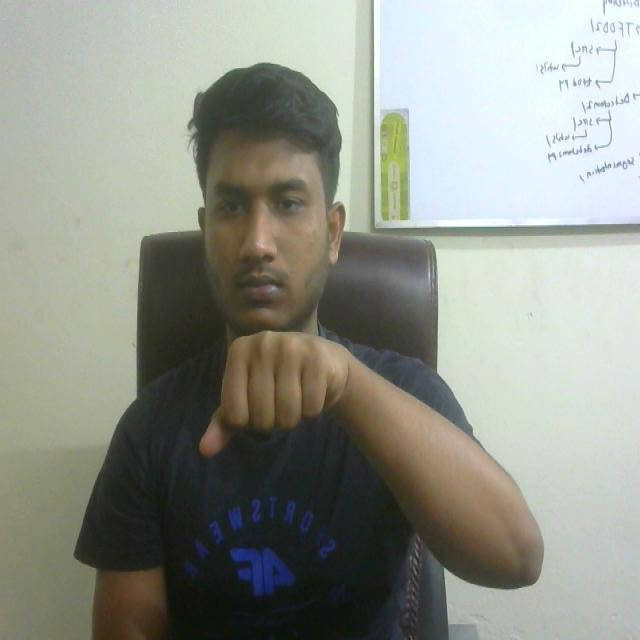I: (186, 306, 361, 486)
